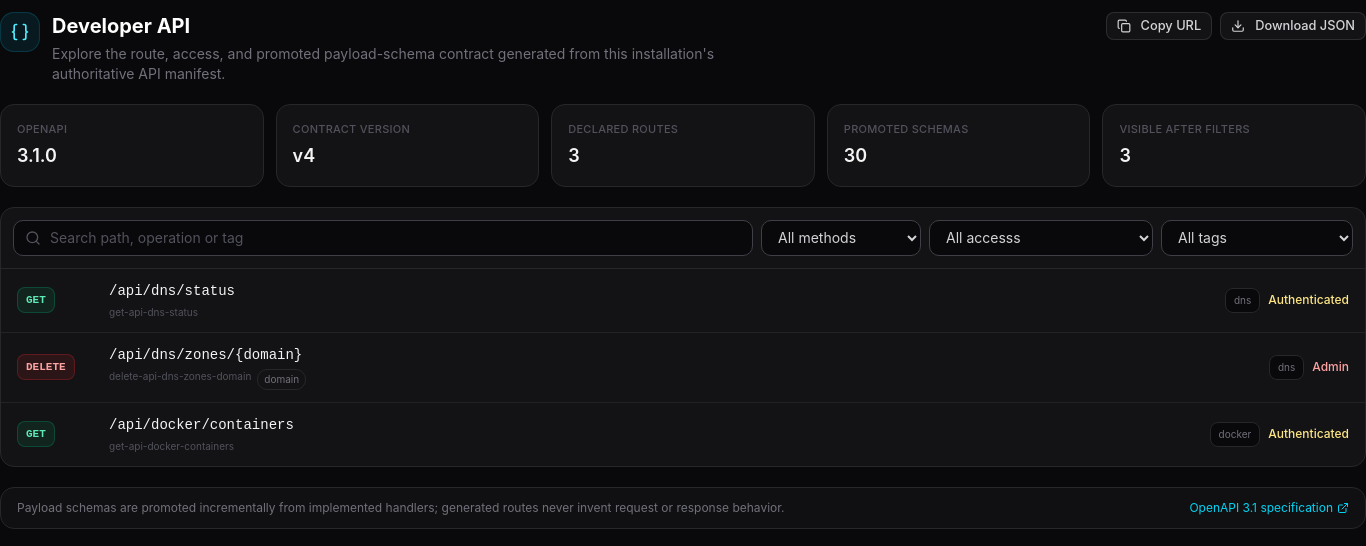
Test case: loads, searches, and filters the installed OpenAPI route inventory
Expected: the text "/api/dns/status" is shown, left=109, top=280, right=235, bottom=300
Expected: the text "/api/docker/containers" is shown, left=109, top=414, right=294, bottom=434
In the field named "Search API routes": (383, 238) left=13, top=220, right=753, bottom=256, type "dns"
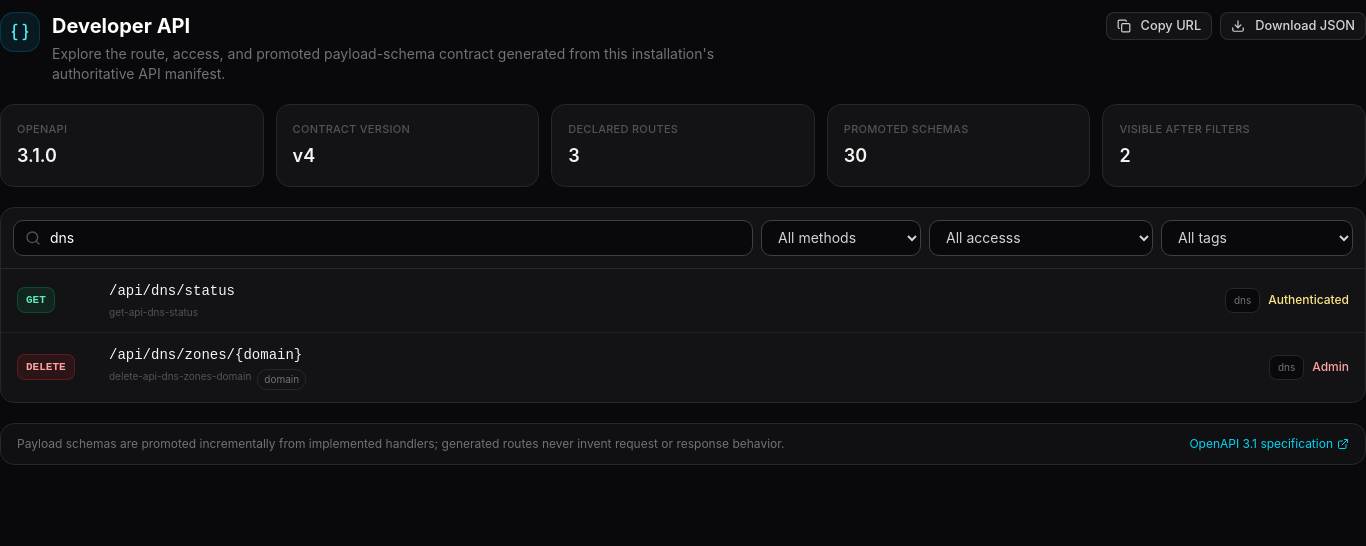
Expected: the text "/api/dns/zones/{domain}" is shown, left=109, top=344, right=302, bottom=364
Expected: the text "/api/docker/containers" is gone
Select "Admin" in the dropdown named "Filter by access": (1041, 238) left=929, top=220, right=1153, bottom=256
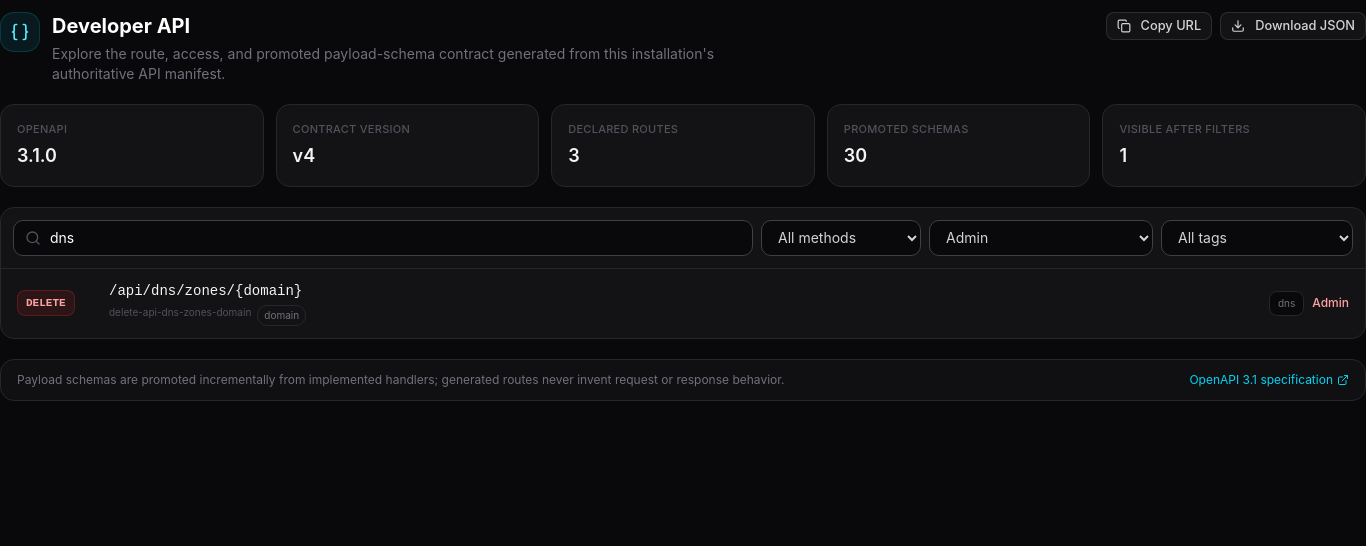
Expected: the text "/api/dns/zones/{domain}" is shown, left=109, top=280, right=302, bottom=300
Expected: the text "/api/dns/status" is gone
